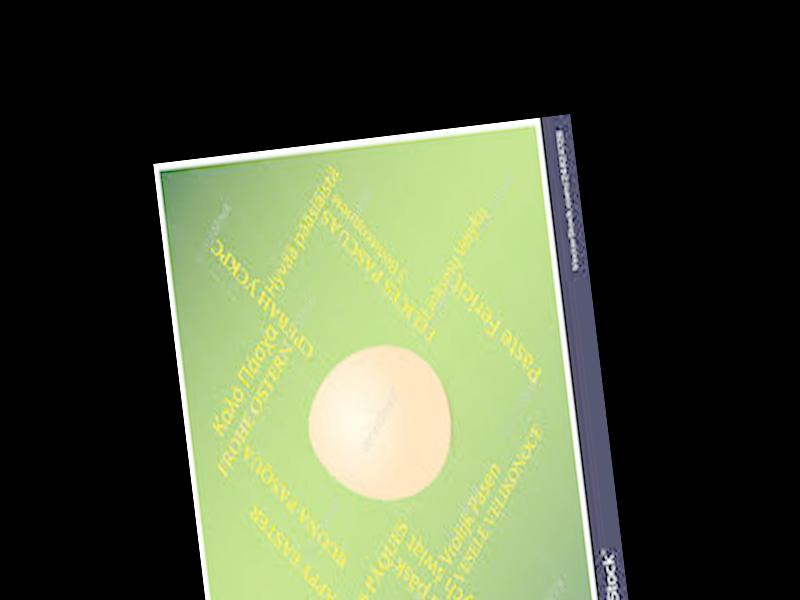Eggs: (303, 338, 457, 506)
